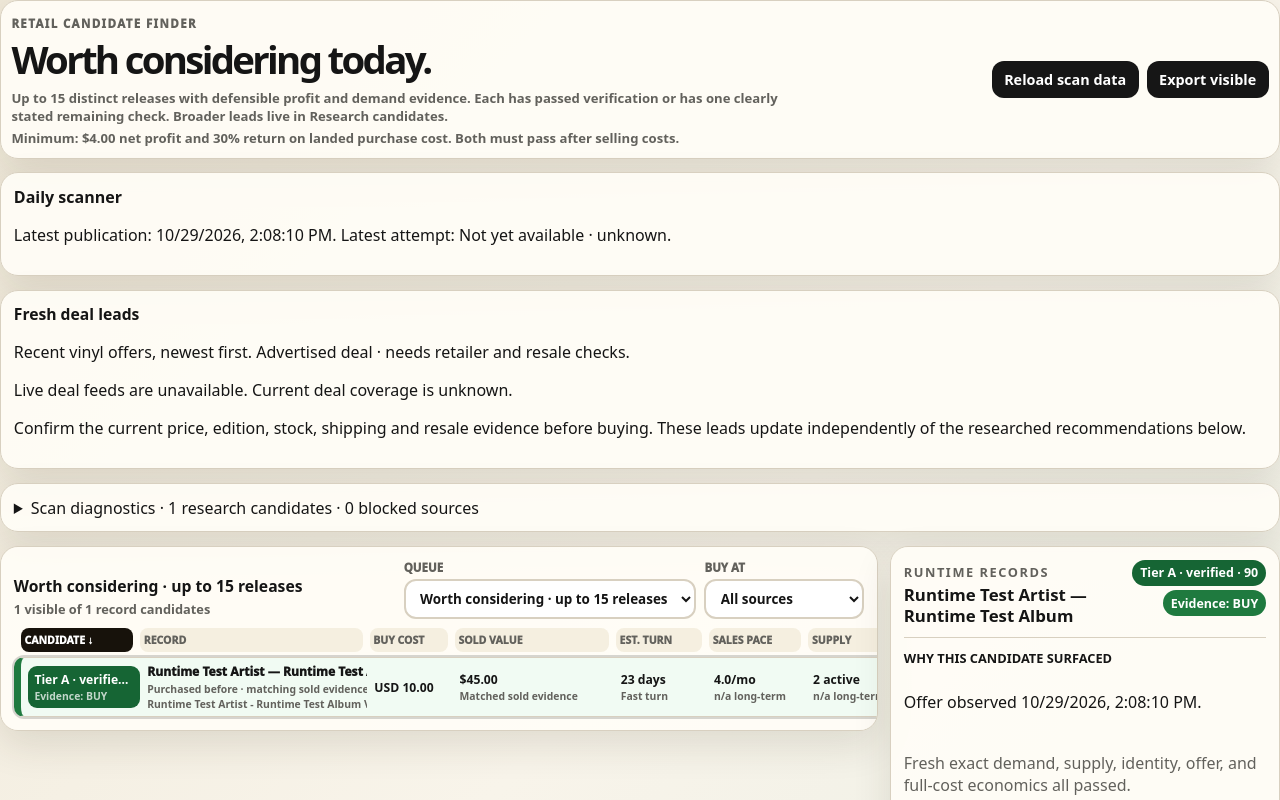
Test case: arbitrage pages › clears a previously loaded buy when the latest publication becomes empty
The width and height of the screenshot is (1280, 800).
Click the button "Reload scan data": {"x": 1065, "y": 79} [992,61,1139,98]
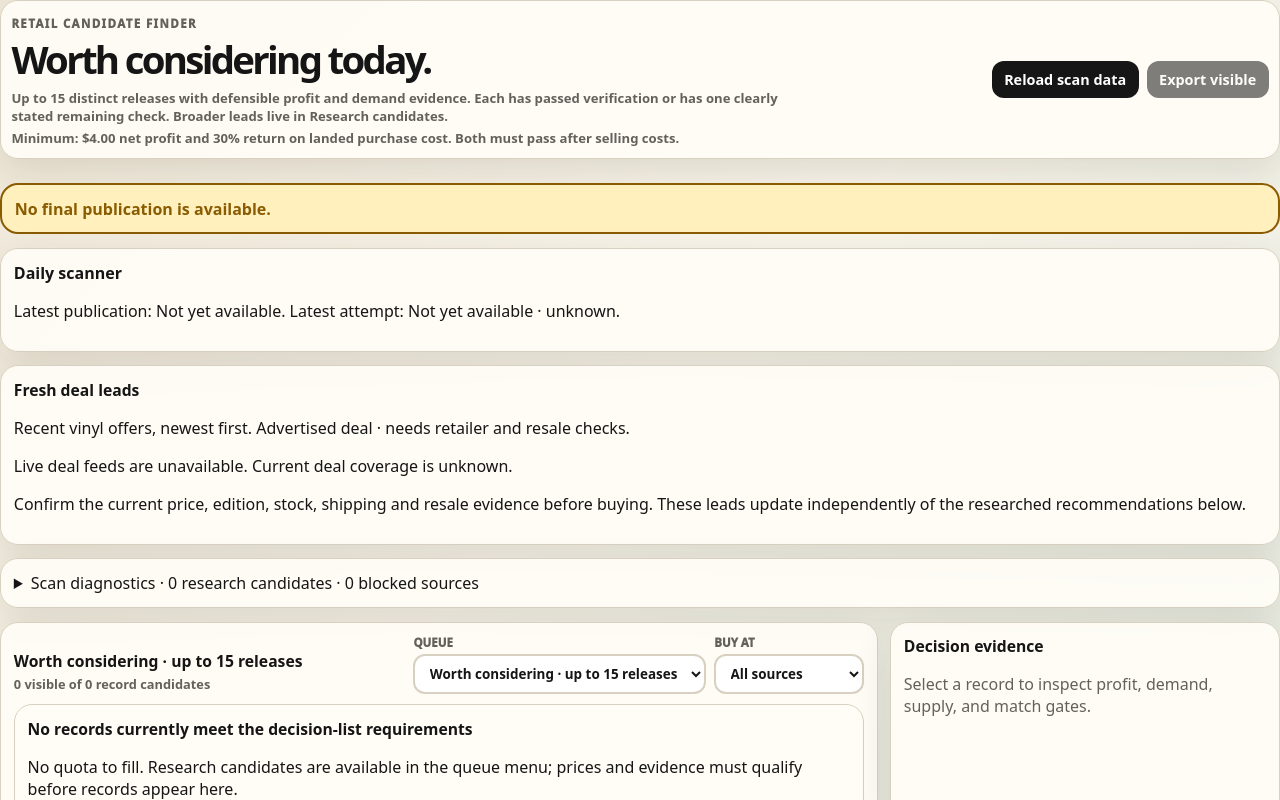
Now the text "Runtime Test Album" is gone
Now the text "No final publication is available." is shown, box [0,183,1279,234]
Now the text "No records currently meet the decision-list requirements" is shown, box [28,718,473,740]
